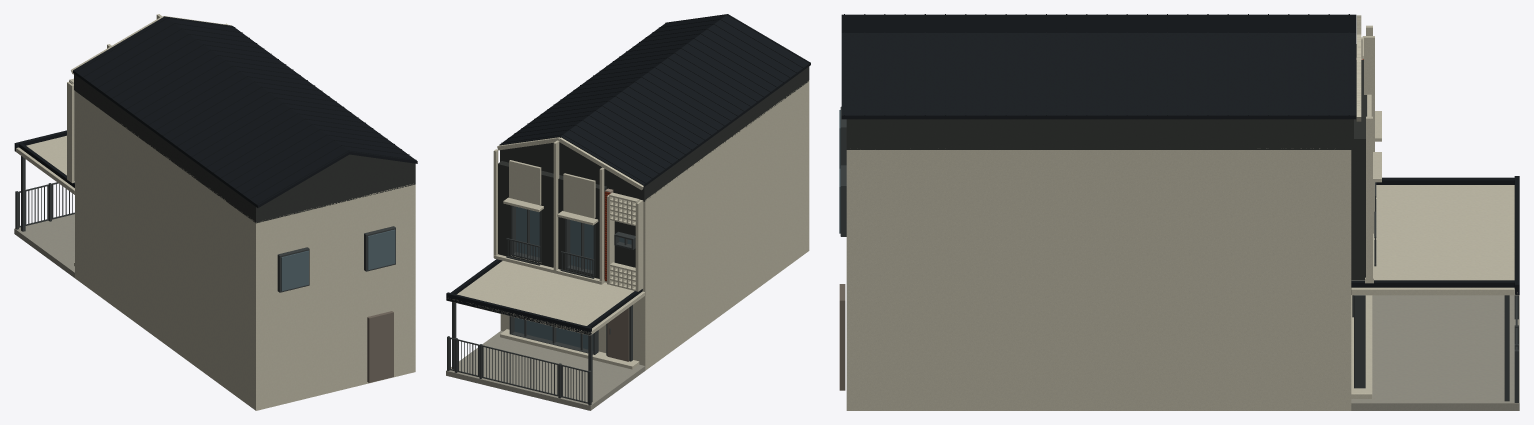
File: elmina-intermediate.glb
3 views of the same model, side by side, from view 1: azimuth 30°, elevation 25°; view 2: azimuth 150°, elevation 25°; view 3: azimuth 270°, elevation 25° (orthographic). The views are drawn at different scales.
Visible parts, largest first — view 1: Warm ivory render, Graphite roof, Charcoal facade, Porch concrete, Smoked blue glazing, Dark timber door, Powder coated frames, FrontBoundary; view 2: Warm ivory render, Graphite roof, Charcoal facade, Porch concrete, Powder coated frames, Smoked blue glazing, VehicleGate, FrontBoundary, Dark timber door, PedestrianGate; view 3: Warm ivory render, Graphite roof, Charcoal facade, Porch concrete, Powder coated frames, Dark timber door.
Part boxes in pixels (x1,y1,x2,y2): Warm ivory render: (15, 14, 415, 410); Graphite roof: (14, 16, 417, 207); Charcoal facade: (74, 74, 415, 223); Porch concrete: (14, 214, 74, 277); Smoked blue glazing: (281, 229, 395, 291); Dark timber door: (367, 311, 393, 382); Powder coated frames: (21, 156, 395, 292); FrontBoundary: (15, 183, 51, 229); Warm ivory render: (447, 80, 809, 370); Graphite roof: (446, 14, 810, 335); Charcoal facade: (498, 66, 809, 279); Porch concrete: (446, 331, 645, 410); Powder coated frames: (452, 205, 635, 402); Smoked blue glazing: (514, 206, 631, 350); VehicleGate: (482, 345, 558, 396); FrontBoundary: (447, 336, 591, 405); Dark timber door: (607, 307, 629, 361); PedestrianGate: (457, 339, 479, 376); Warm ivory render: (846, 15, 1519, 410); Graphite roof: (841, 14, 1519, 294); Charcoal facade: (846, 44, 1366, 279); Porch concrete: (1351, 295, 1519, 410); Powder coated frames: (840, 106, 1509, 401); Dark timber door: (839, 284, 845, 390).
Size of the model in its own units: 6.15 by 8.72 by 16.17.
9 materials, 5 textured.
